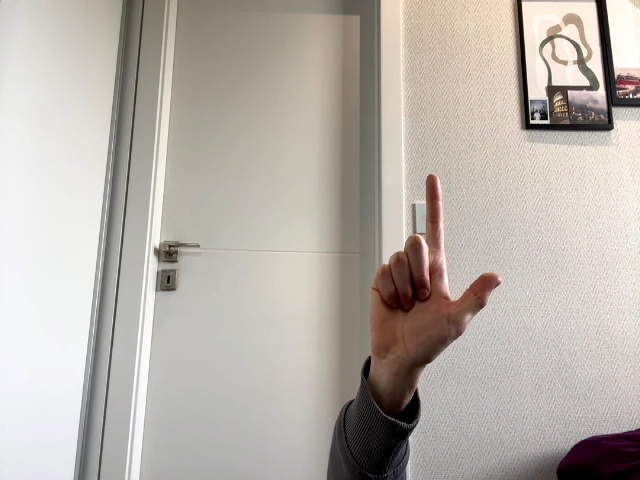L: (369, 174, 502, 388)
